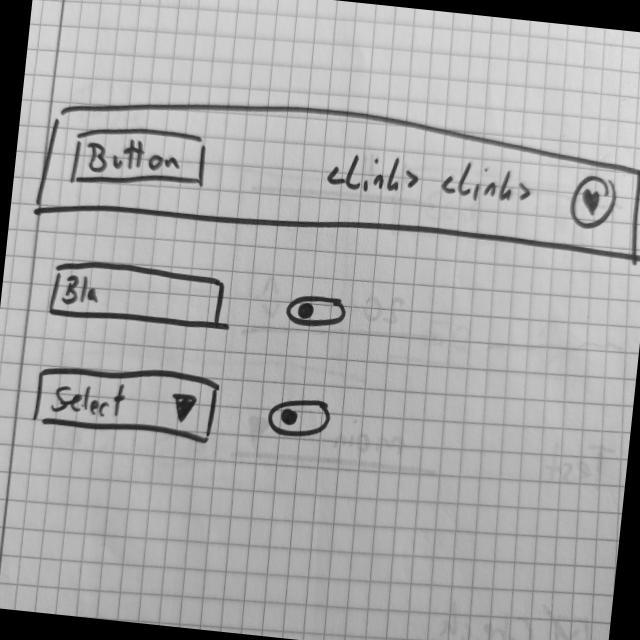button: (66, 116, 212, 200)
container: (30, 76, 640, 278)
icon-button: (566, 168, 620, 233)
input: (42, 252, 227, 340)
link: (322, 146, 424, 202), (437, 157, 535, 209)
select: (29, 354, 221, 444)
toggle: (264, 392, 334, 442), (283, 286, 353, 334)
